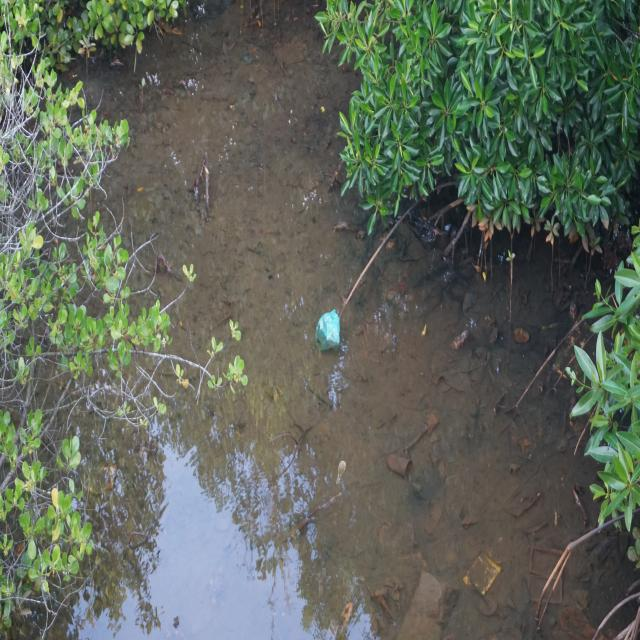Kantong Plastik: (311, 304, 344, 359)
